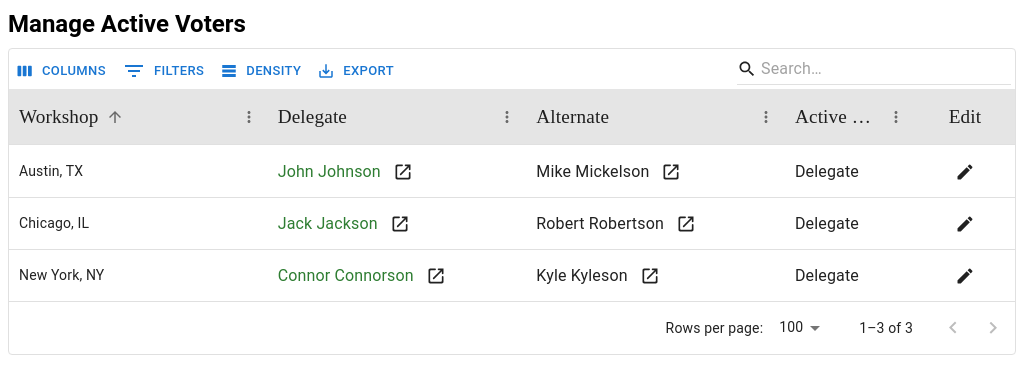
Test: Successfully updates active voter
Click the menu item with test id "edit-active-voter-1" at (965, 172), box [950,156,980,186]
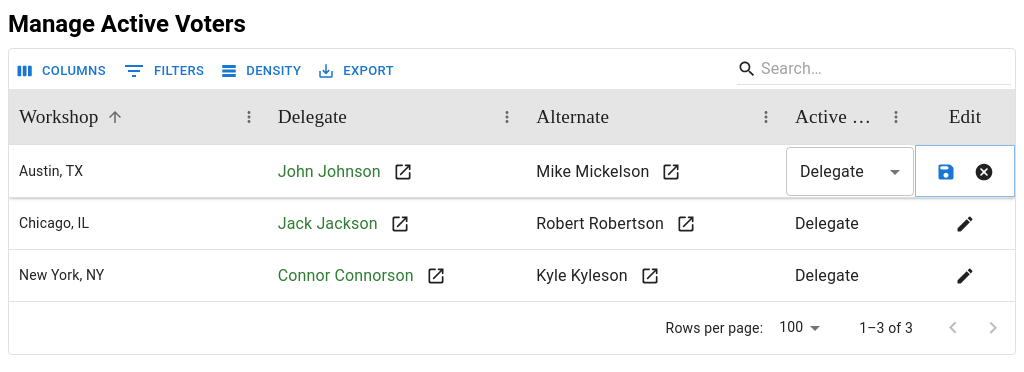
Click the menu item with test id "save-active-voter-1" at (946, 172), box [931,156,961,186]
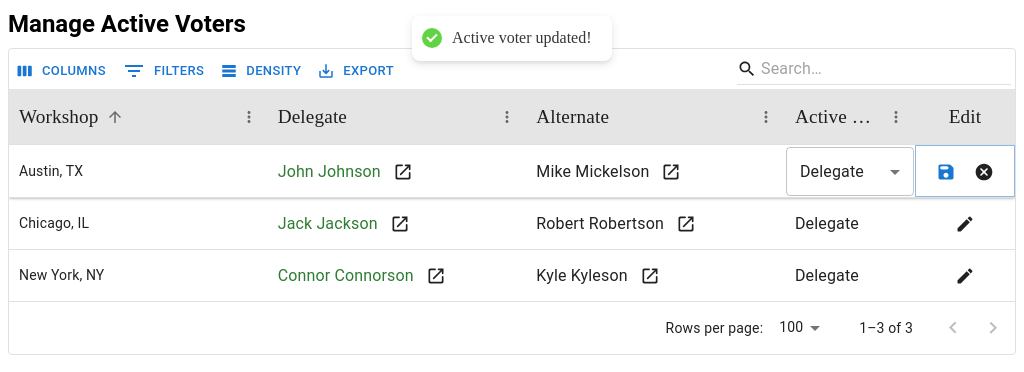
Expected: the text "Active voter updated!" is shown, [452,28,592,49]
